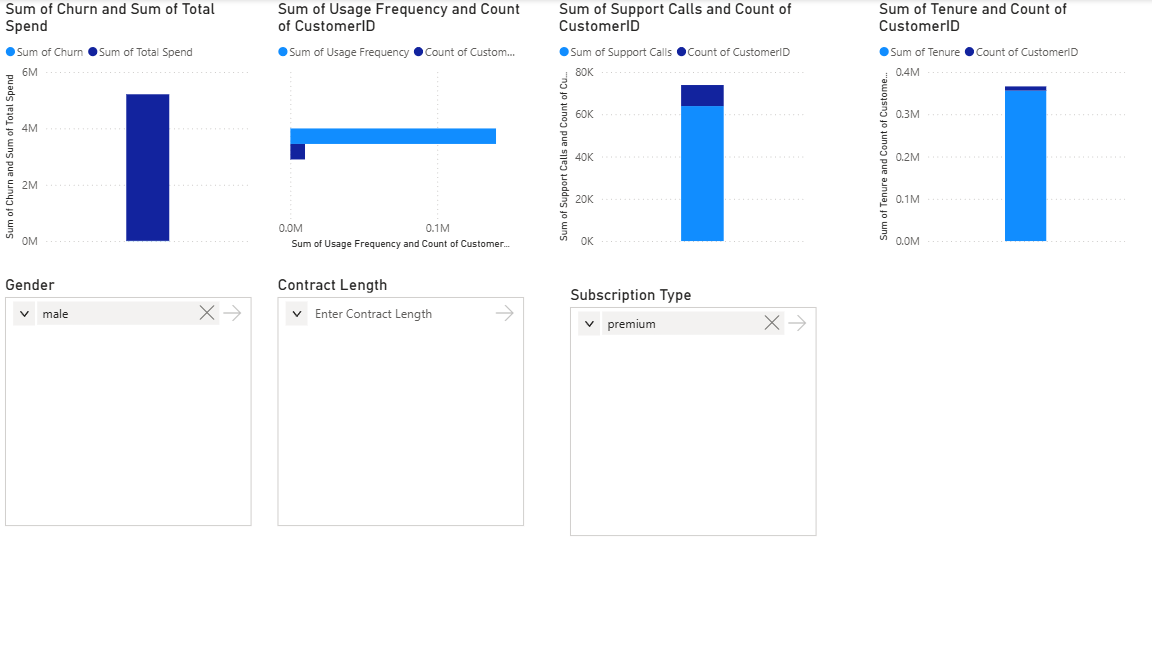

The dashboard page shown, as its layout file describes it:
{"tool":"powerbi","page":{"name":"Page 2","canvas":[1280,720],"ordinal":1},"visuals":[{"type":"columnChart","fields":{"Y":["Sum(customer_churn_dataset-testing-master.Churn)","Sum(customer_churn_dataset-testing-master.Total Spend)"]},"box":[10,0,280,280],"z":0},{"type":"clusteredBarChart","fields":{"Y":["Sum(customer_churn_dataset-testing-master.Usage Frequency)","CountNonNull(customer_churn_dataset-testing-master.CustomerID)"]},"box":[308.7,0,279.9,279.9],"z":1000},{"type":"columnChart","fields":{"Y":["Sum(customer_churn_dataset-testing-master.Support Calls)","CountNonNull(customer_churn_dataset-testing-master.CustomerID)"]},"box":[617.5,0,279.9,279.9],"z":2000},{"type":"columnChart","fields":{"Y":["Sum(customer_churn_dataset-testing-master.Tenure)","CountNonNull(customer_churn_dataset-testing-master.CustomerID)"]},"box":[968.8,0,279.9,279.9],"z":3000},{"type":"textSlicer","fields":{"Values":["customer_churn_dataset-testing-master.Subscription Type"]},"box":[629.8,314.2,279.9,279.9],"z":4000},{"type":"textSlicer","fields":{"Values":["customer_churn_dataset-testing-master.Gender"]},"box":[9.6,303.3,279.9,279.9],"z":5000},{"type":"textSlicer","fields":{"Values":["customer_churn_dataset-testing-master.Contract Length"]},"box":[308.7,303.3,279.9,279.9],"z":6000}]}

Visuals, with their boxes in screenshot pixels (x1, y1, x2, y2), scaled from the page's 1280x720 canvas onto the 1152x655 screenshot:
columnChart - Sum(customer_churn_dataset-testing-master.Churn) x Sum(customer_churn_dataset-testing-master.Total Spend): (9,0,261,255)
clusteredBarChart - Sum(customer_churn_dataset-testing-master.Usage Frequency) x CountNonNull(customer_churn_dataset-testing-master.CustomerID): (278,0,530,255)
columnChart - Sum(customer_churn_dataset-testing-master.Support Calls) x CountNonNull(customer_churn_dataset-testing-master.CustomerID): (556,0,808,255)
columnChart - Sum(customer_churn_dataset-testing-master.Tenure) x CountNonNull(customer_churn_dataset-testing-master.CustomerID): (872,0,1124,255)
textSlicer - customer_churn_dataset-testing-master.Subscription Type: (567,286,819,540)
textSlicer - customer_churn_dataset-testing-master.Gender: (9,276,261,531)
textSlicer - customer_churn_dataset-testing-master.Contract Length: (278,276,530,531)
